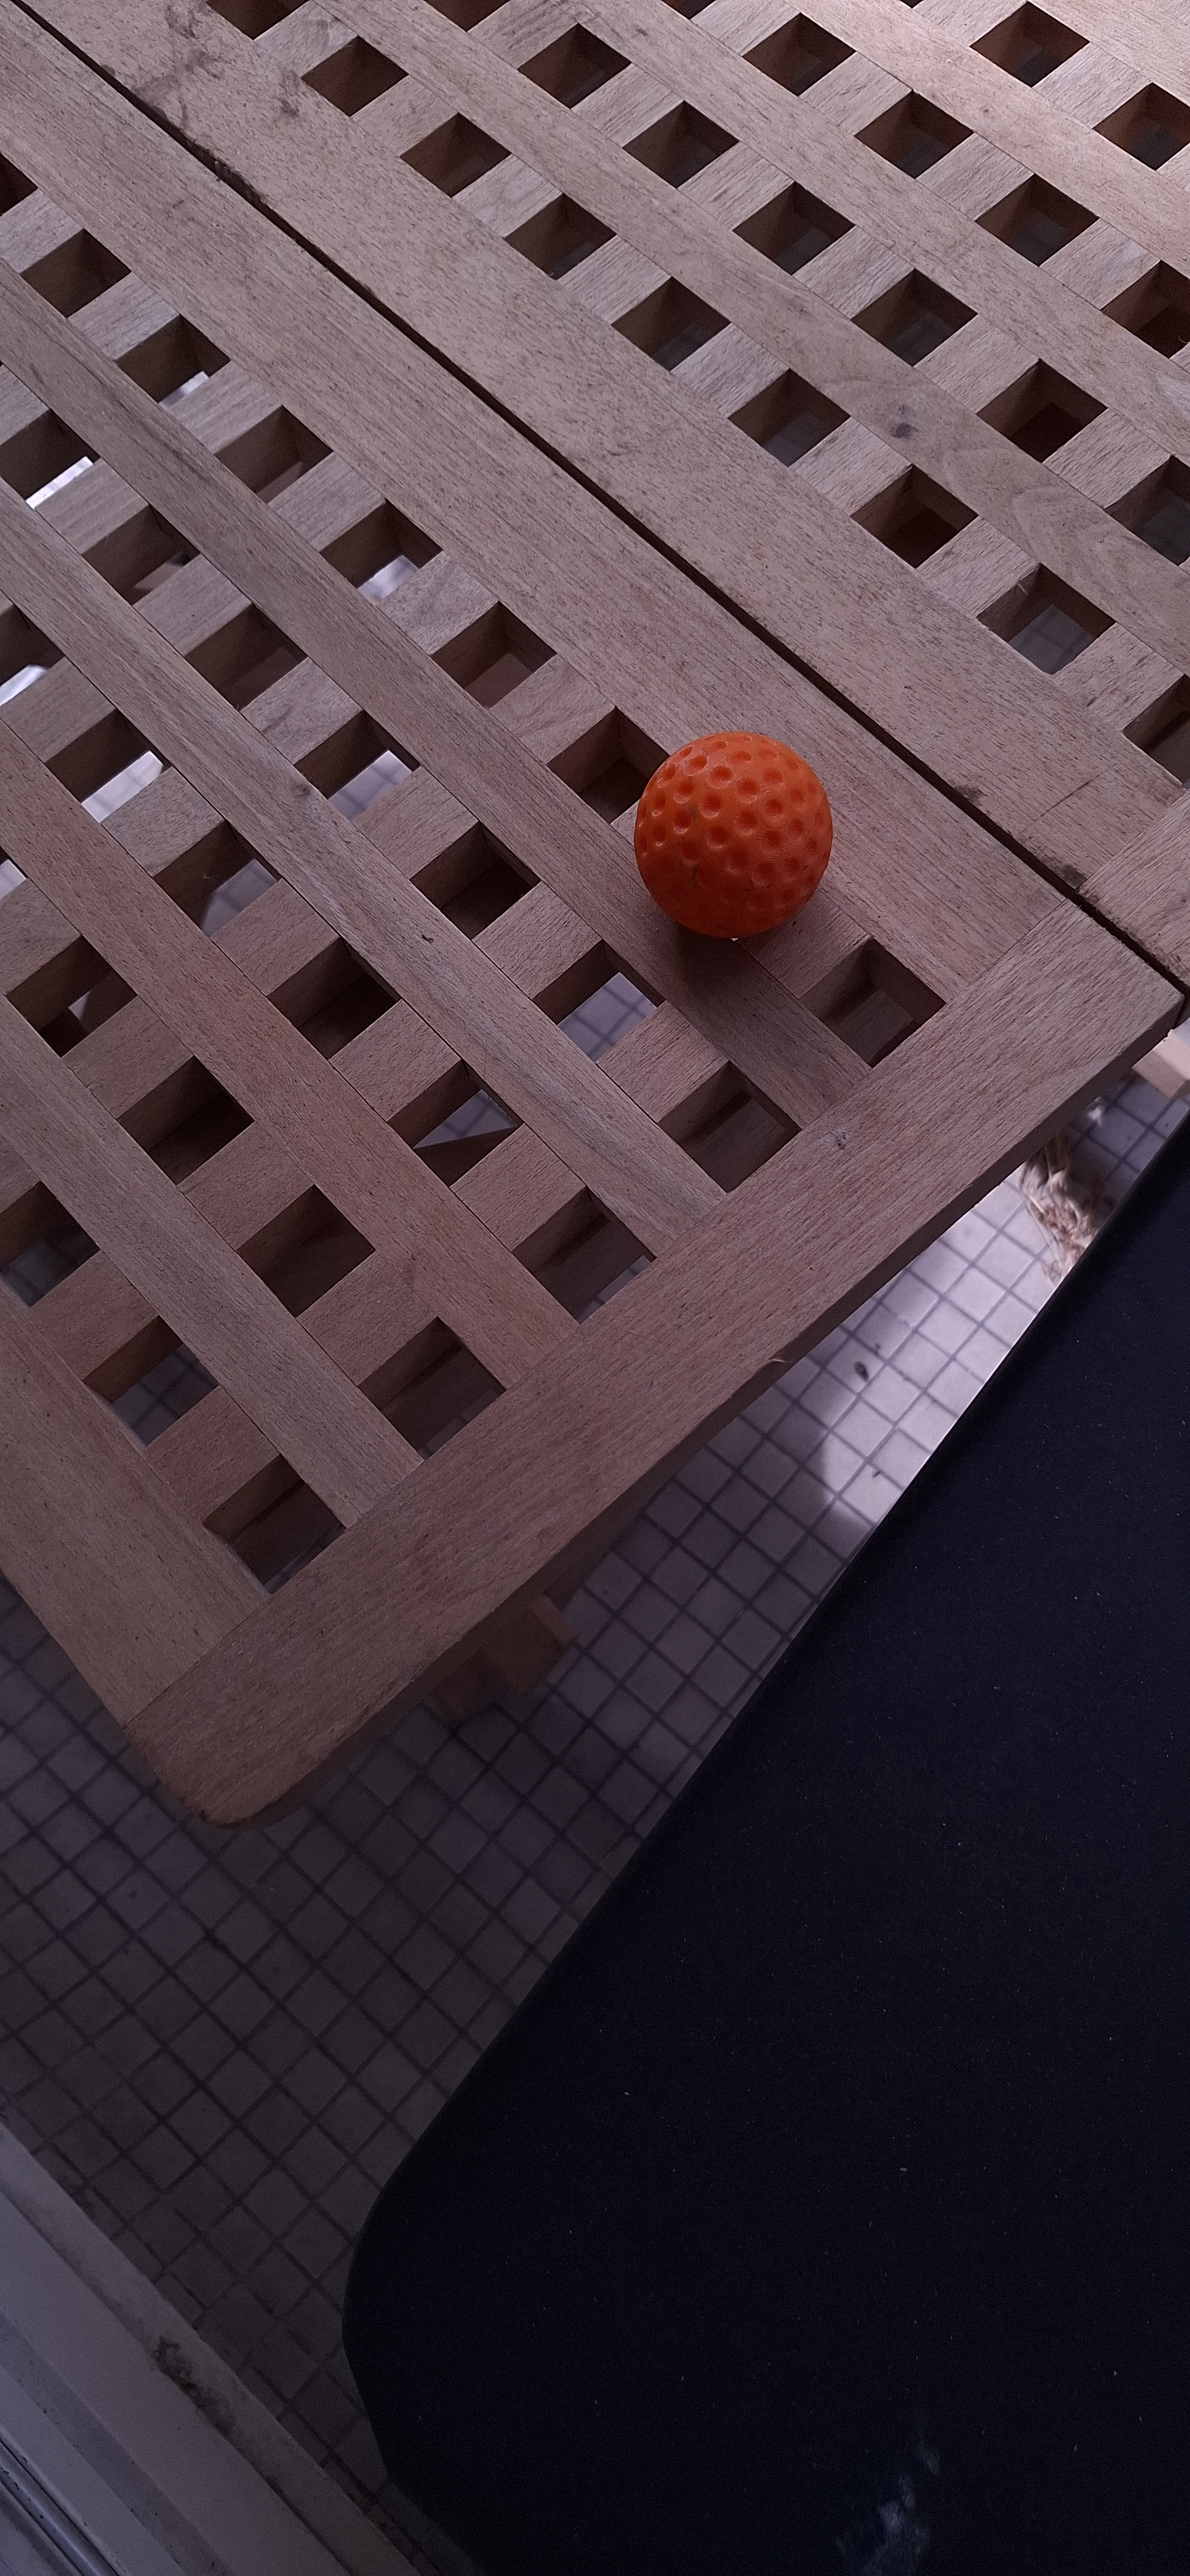ball: (335, 770, 432, 1203)
